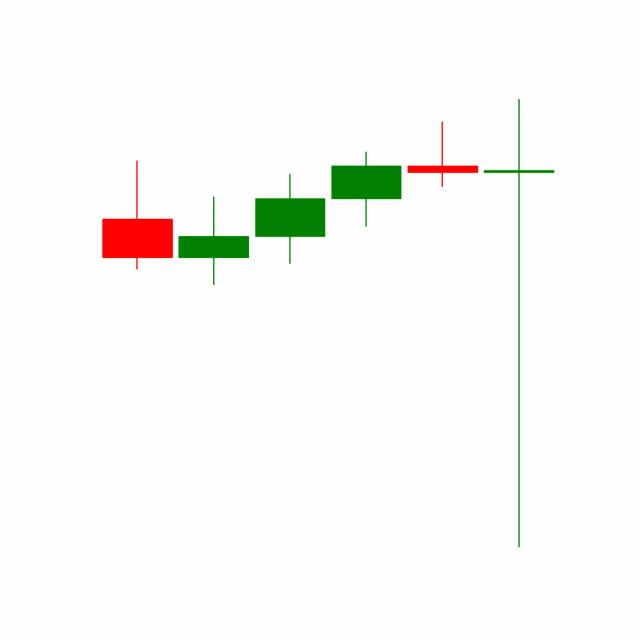Spinning Top: (403, 120, 481, 188)
